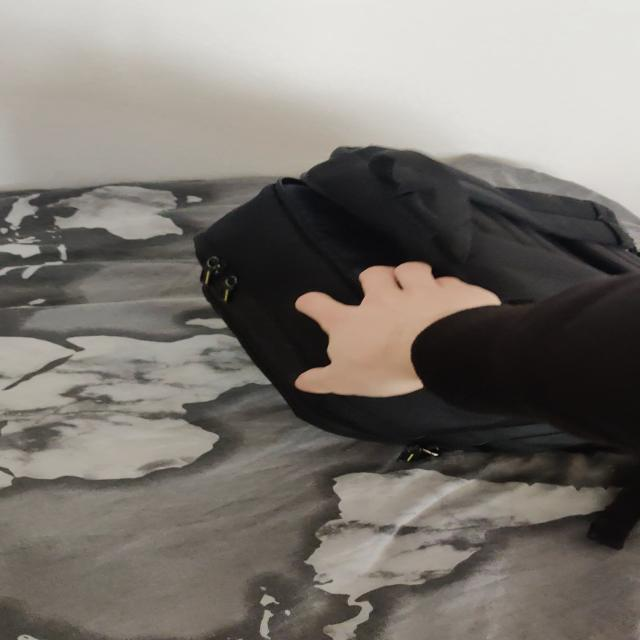backpack: (172, 135, 640, 466)
